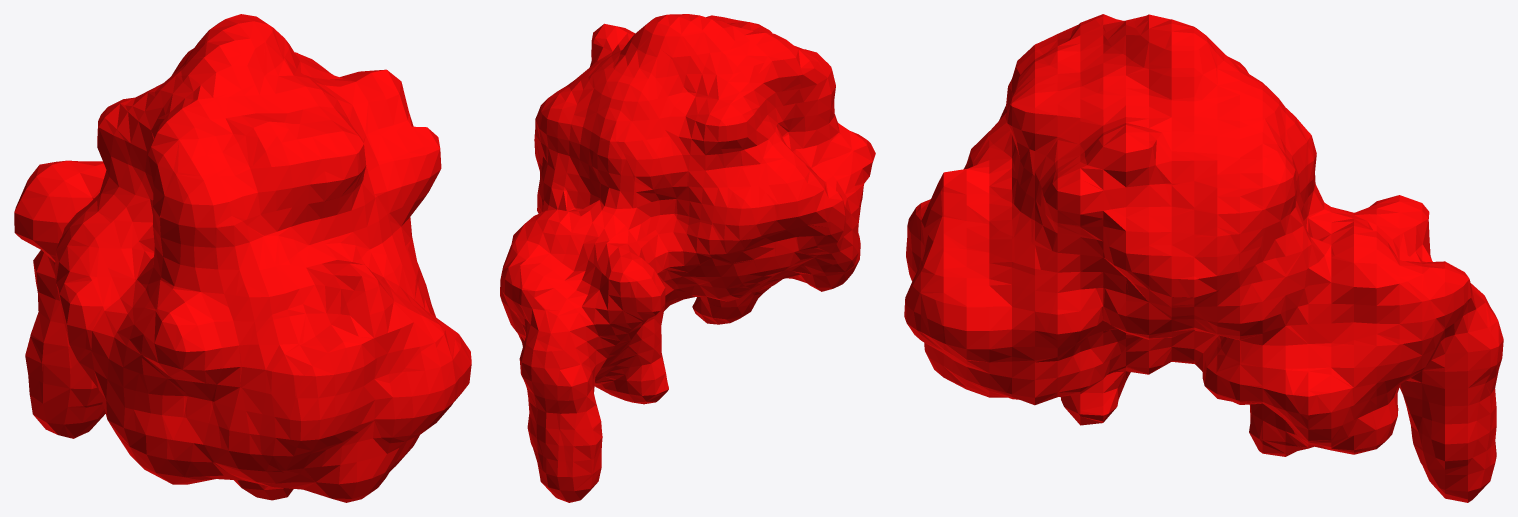
File: minE_coarse.dae
3 renders of one model, left to right at view 1: azimuth 30°, elevation 25°; view 2: azimuth 150°, elevation 25°; view 3: azimuth 270°, elevation 25°, orthographic. The views are drawn at different scales.
Parts seen in each view (by area): view 1: minE; view 2: minE; view 3: minE.
Part boxes in pixels (bbox=[...]): minE: bbox=[14, 14, 471, 502]; minE: bbox=[500, 14, 875, 502]; minE: bbox=[904, 14, 1503, 502].
Size of the model in its own units: 60.75 by 82.54 by 93.19.
